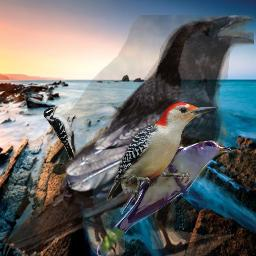Crow: (3, 15, 254, 256)
Cuckoo: (97, 140, 231, 256)
Woodpecker: (106, 102, 218, 201), (43, 106, 78, 161)
